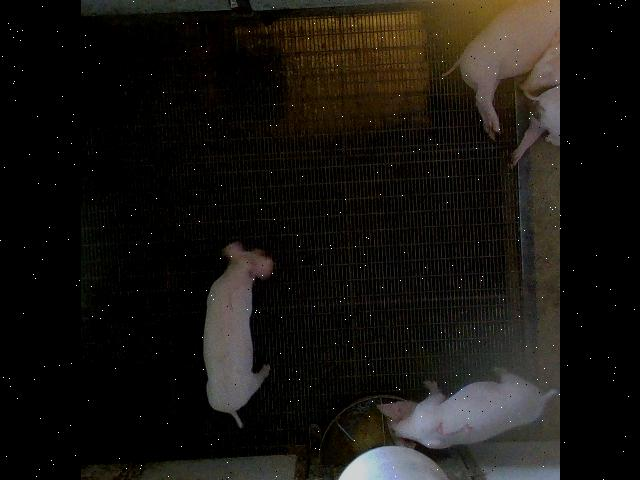pig-5: (376, 369, 556, 449)
